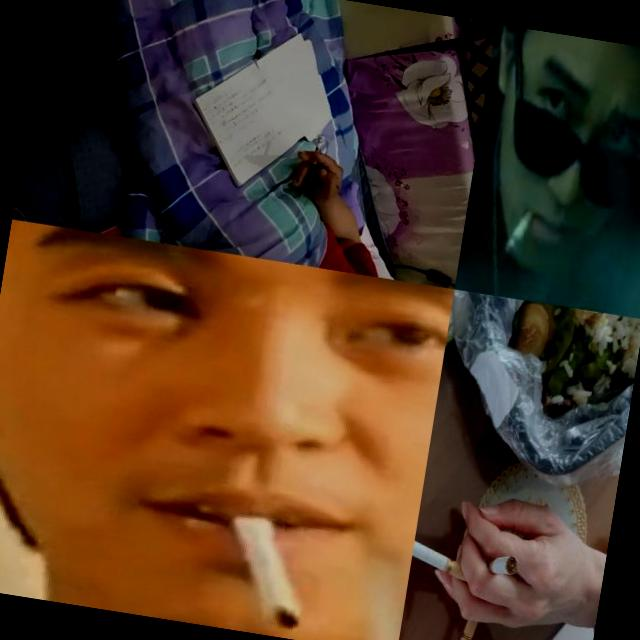smoke: (210, 498, 319, 633), (408, 527, 481, 588), (440, 601, 483, 640), (503, 205, 532, 255), (486, 553, 522, 580), (312, 134, 324, 166)
